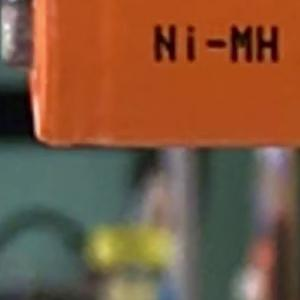keyword: (144, 16, 288, 71)
